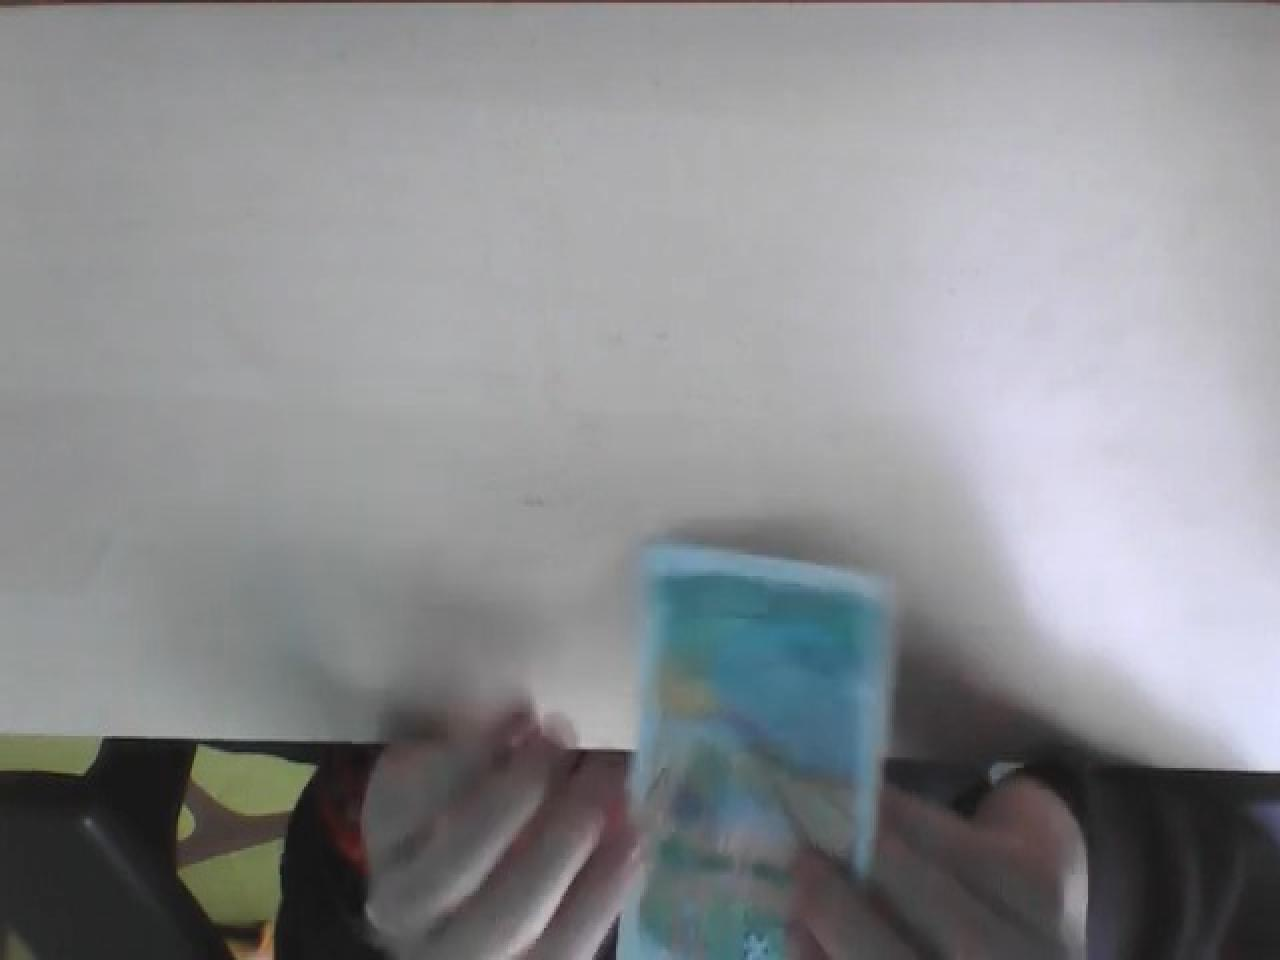100leva: (620, 542, 900, 960)
